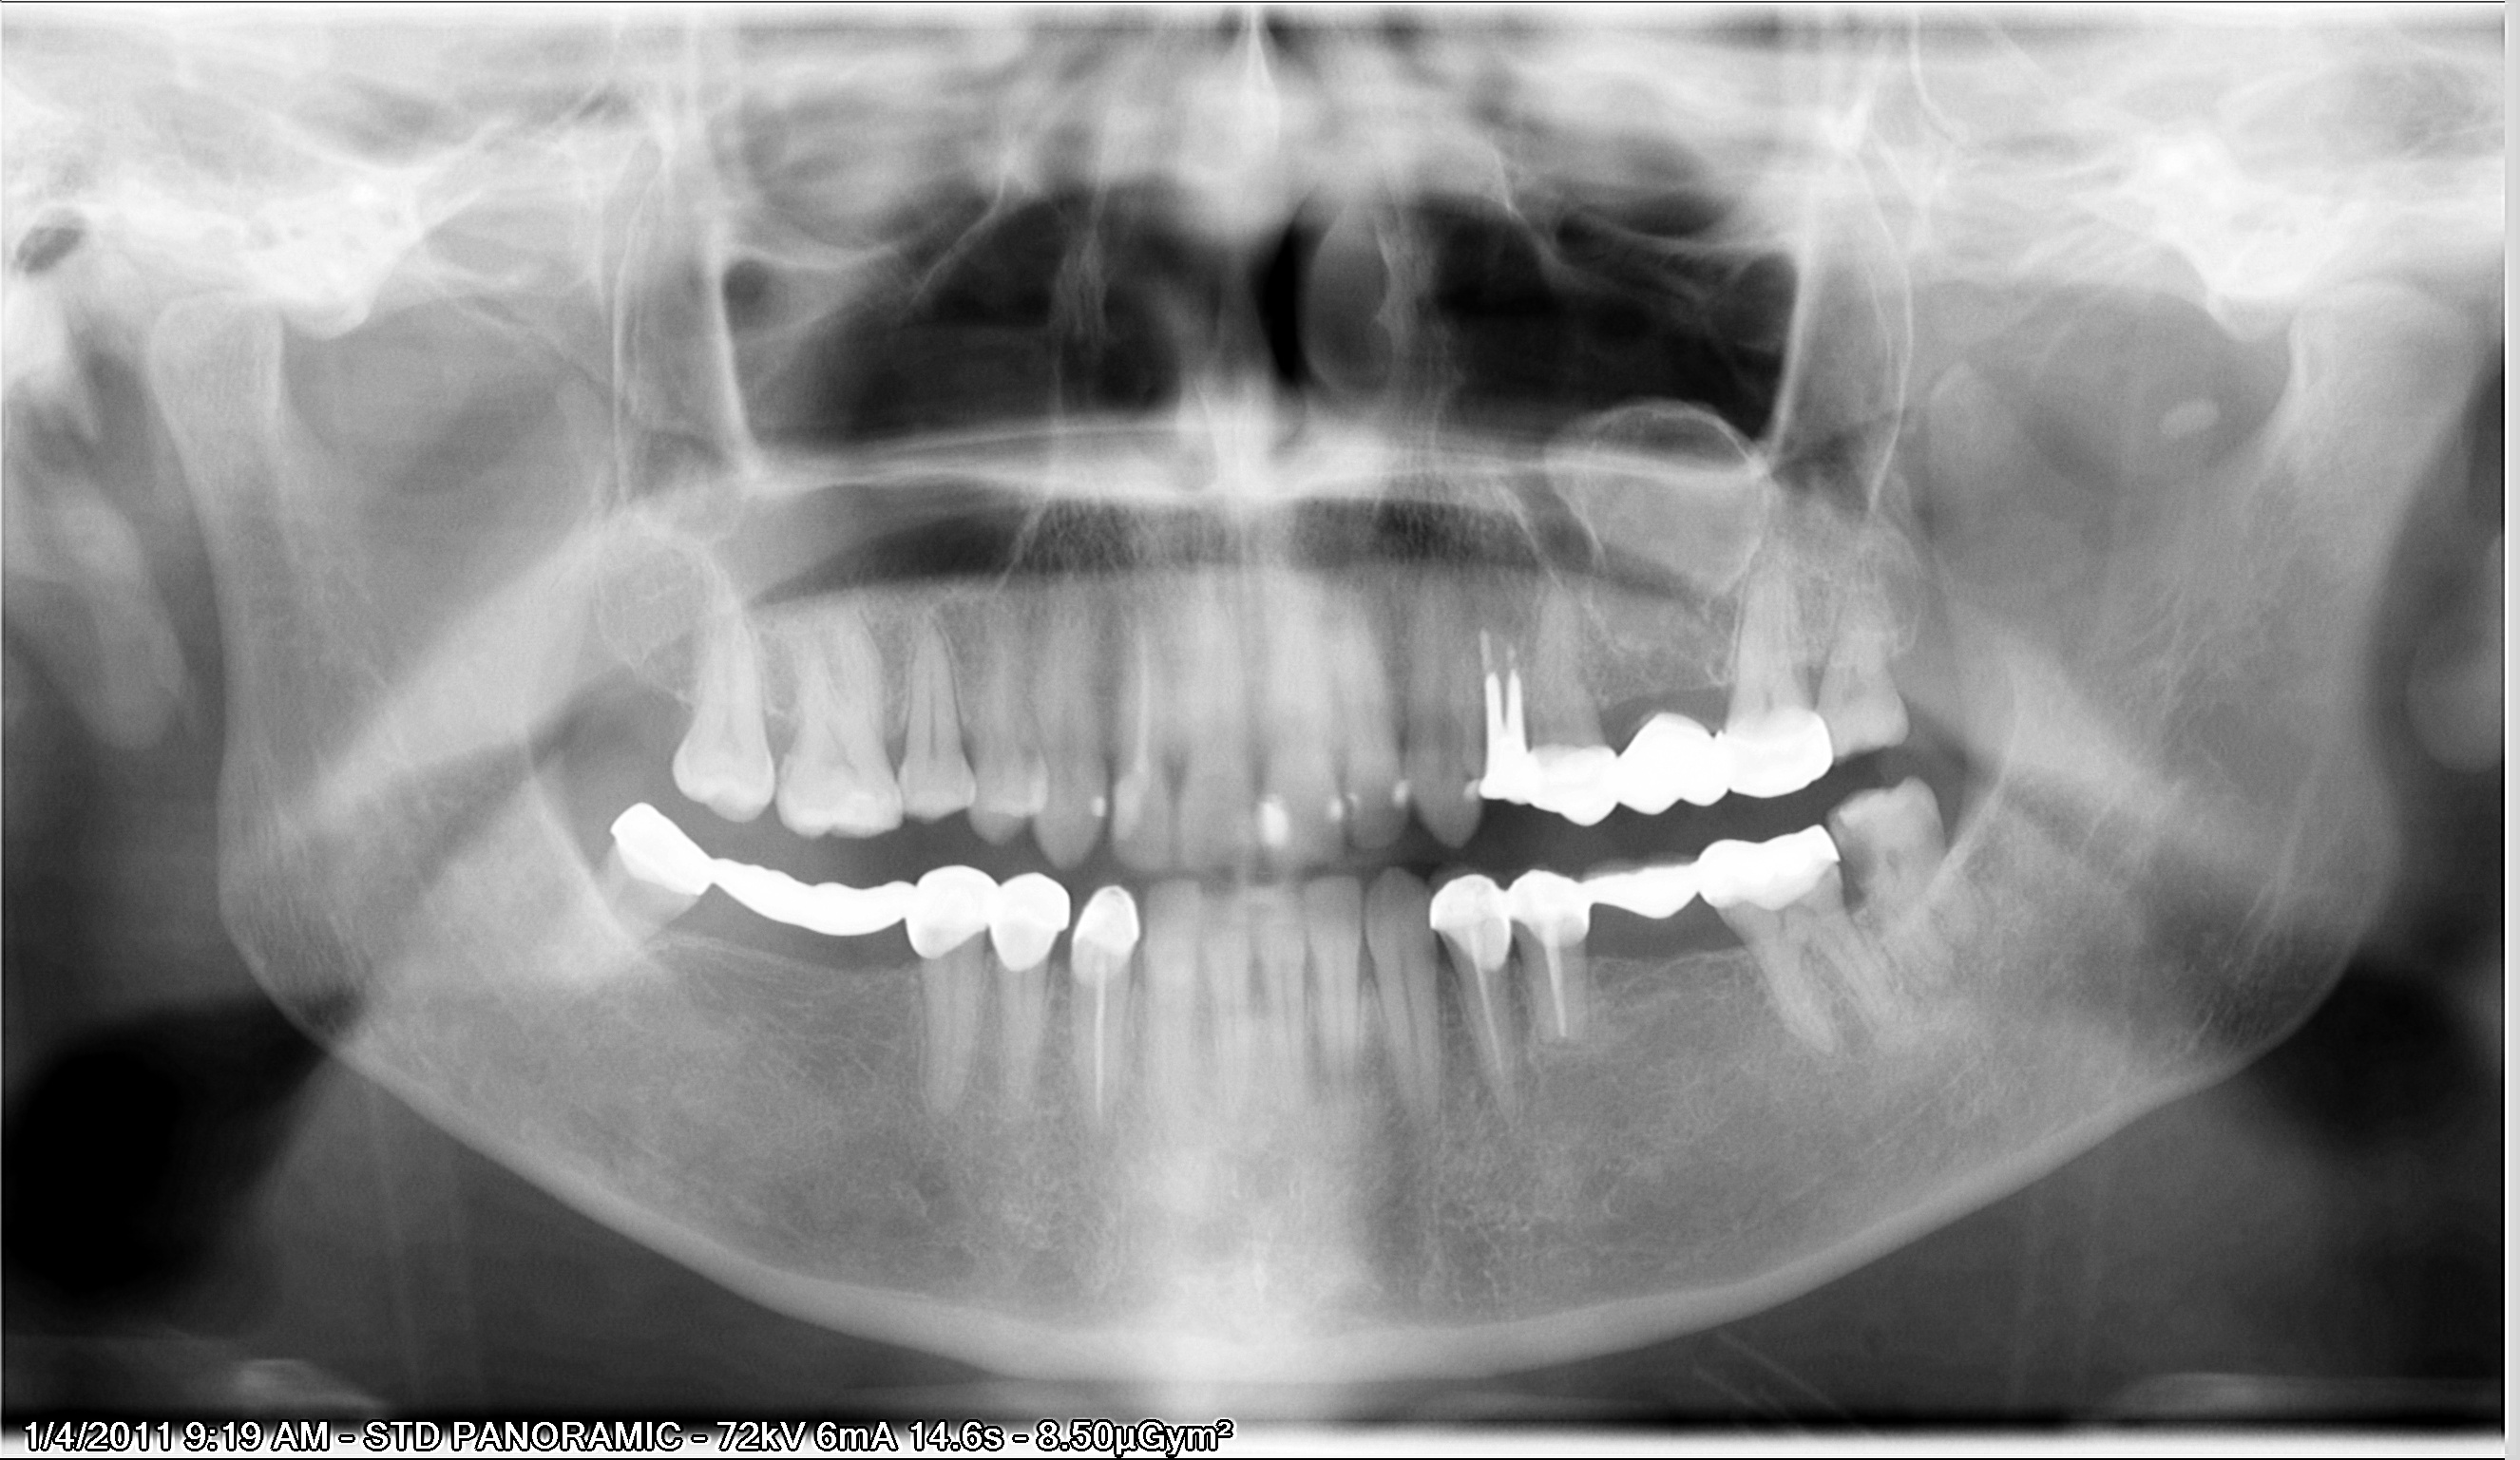APS: (1529, 1022, 1587, 1093)
CAR: (1821, 789, 1903, 895)
END: (1465, 587, 1540, 740), (1451, 980, 1526, 1131), (1069, 987, 1128, 1151), (1114, 605, 1164, 772), (1526, 942, 1588, 1048)
OBT: (1246, 786, 1309, 873), (1107, 772, 1177, 833), (1441, 754, 1502, 819), (1324, 772, 1385, 829), (1363, 766, 1420, 827), (1307, 786, 1349, 839), (1074, 779, 1109, 833)
PRR: (582, 777, 1072, 994), (1425, 815, 1860, 984), (1465, 669, 1825, 836), (1055, 878, 1163, 1010)
